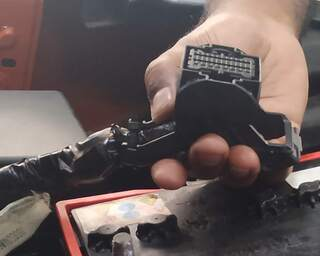connector: (177, 44, 262, 133)
